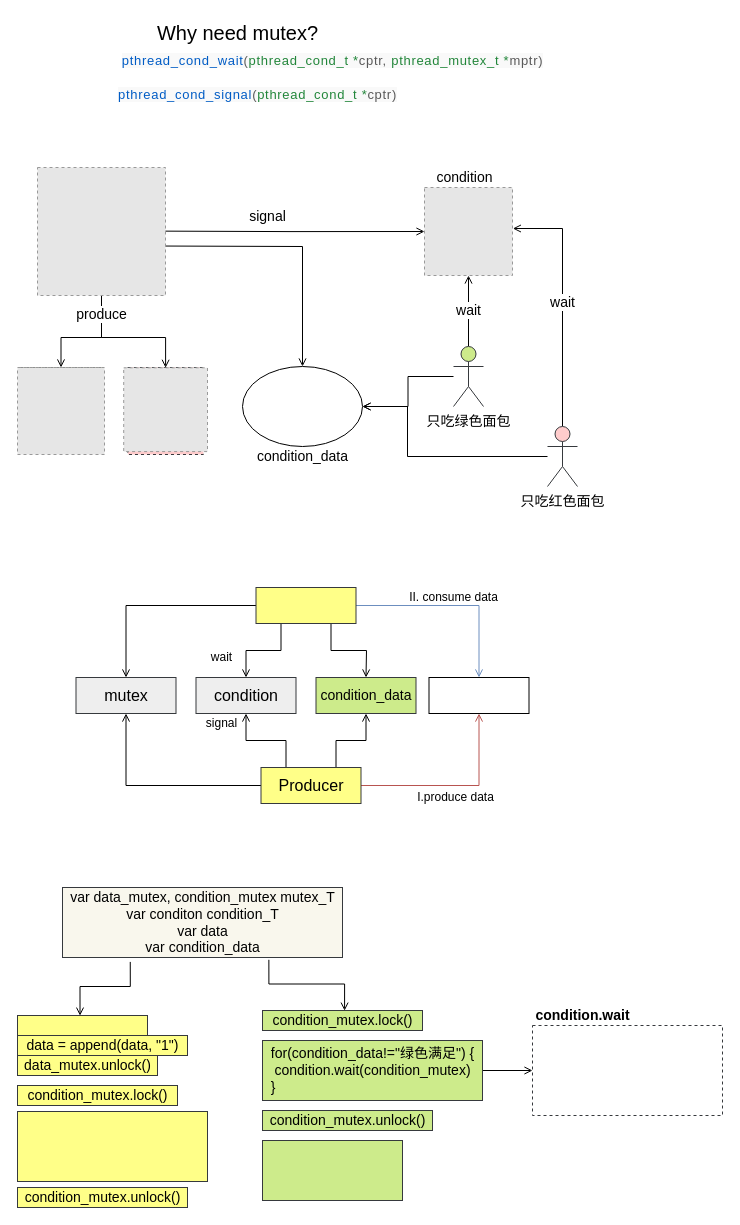
Image size: 740x1225. Some labels were removed from this diagram. Grey dashed boxes stand in for pictures. The shapes that lost their labels are listed below. From the top down, each one's centre as x and y in pixels, then its label:
(x=302, y=406): 信号灯, 表示生产了不同的面包
(x=305, y=605): Consumer
(x=478, y=695): data
(x=82, y=1025): data_mutex.lock()
(x=627, y=1070): { condition_mutex.unlock() wait_for_condition_signal() condition_mutex.lock() }
(x=112, y=1146): if (len(data) >=1) { condition_data="绿色满足" condition.signal() }
(x=332, y=1170): data_mutex.lock() data=[1:] data_mutex.unlock()
